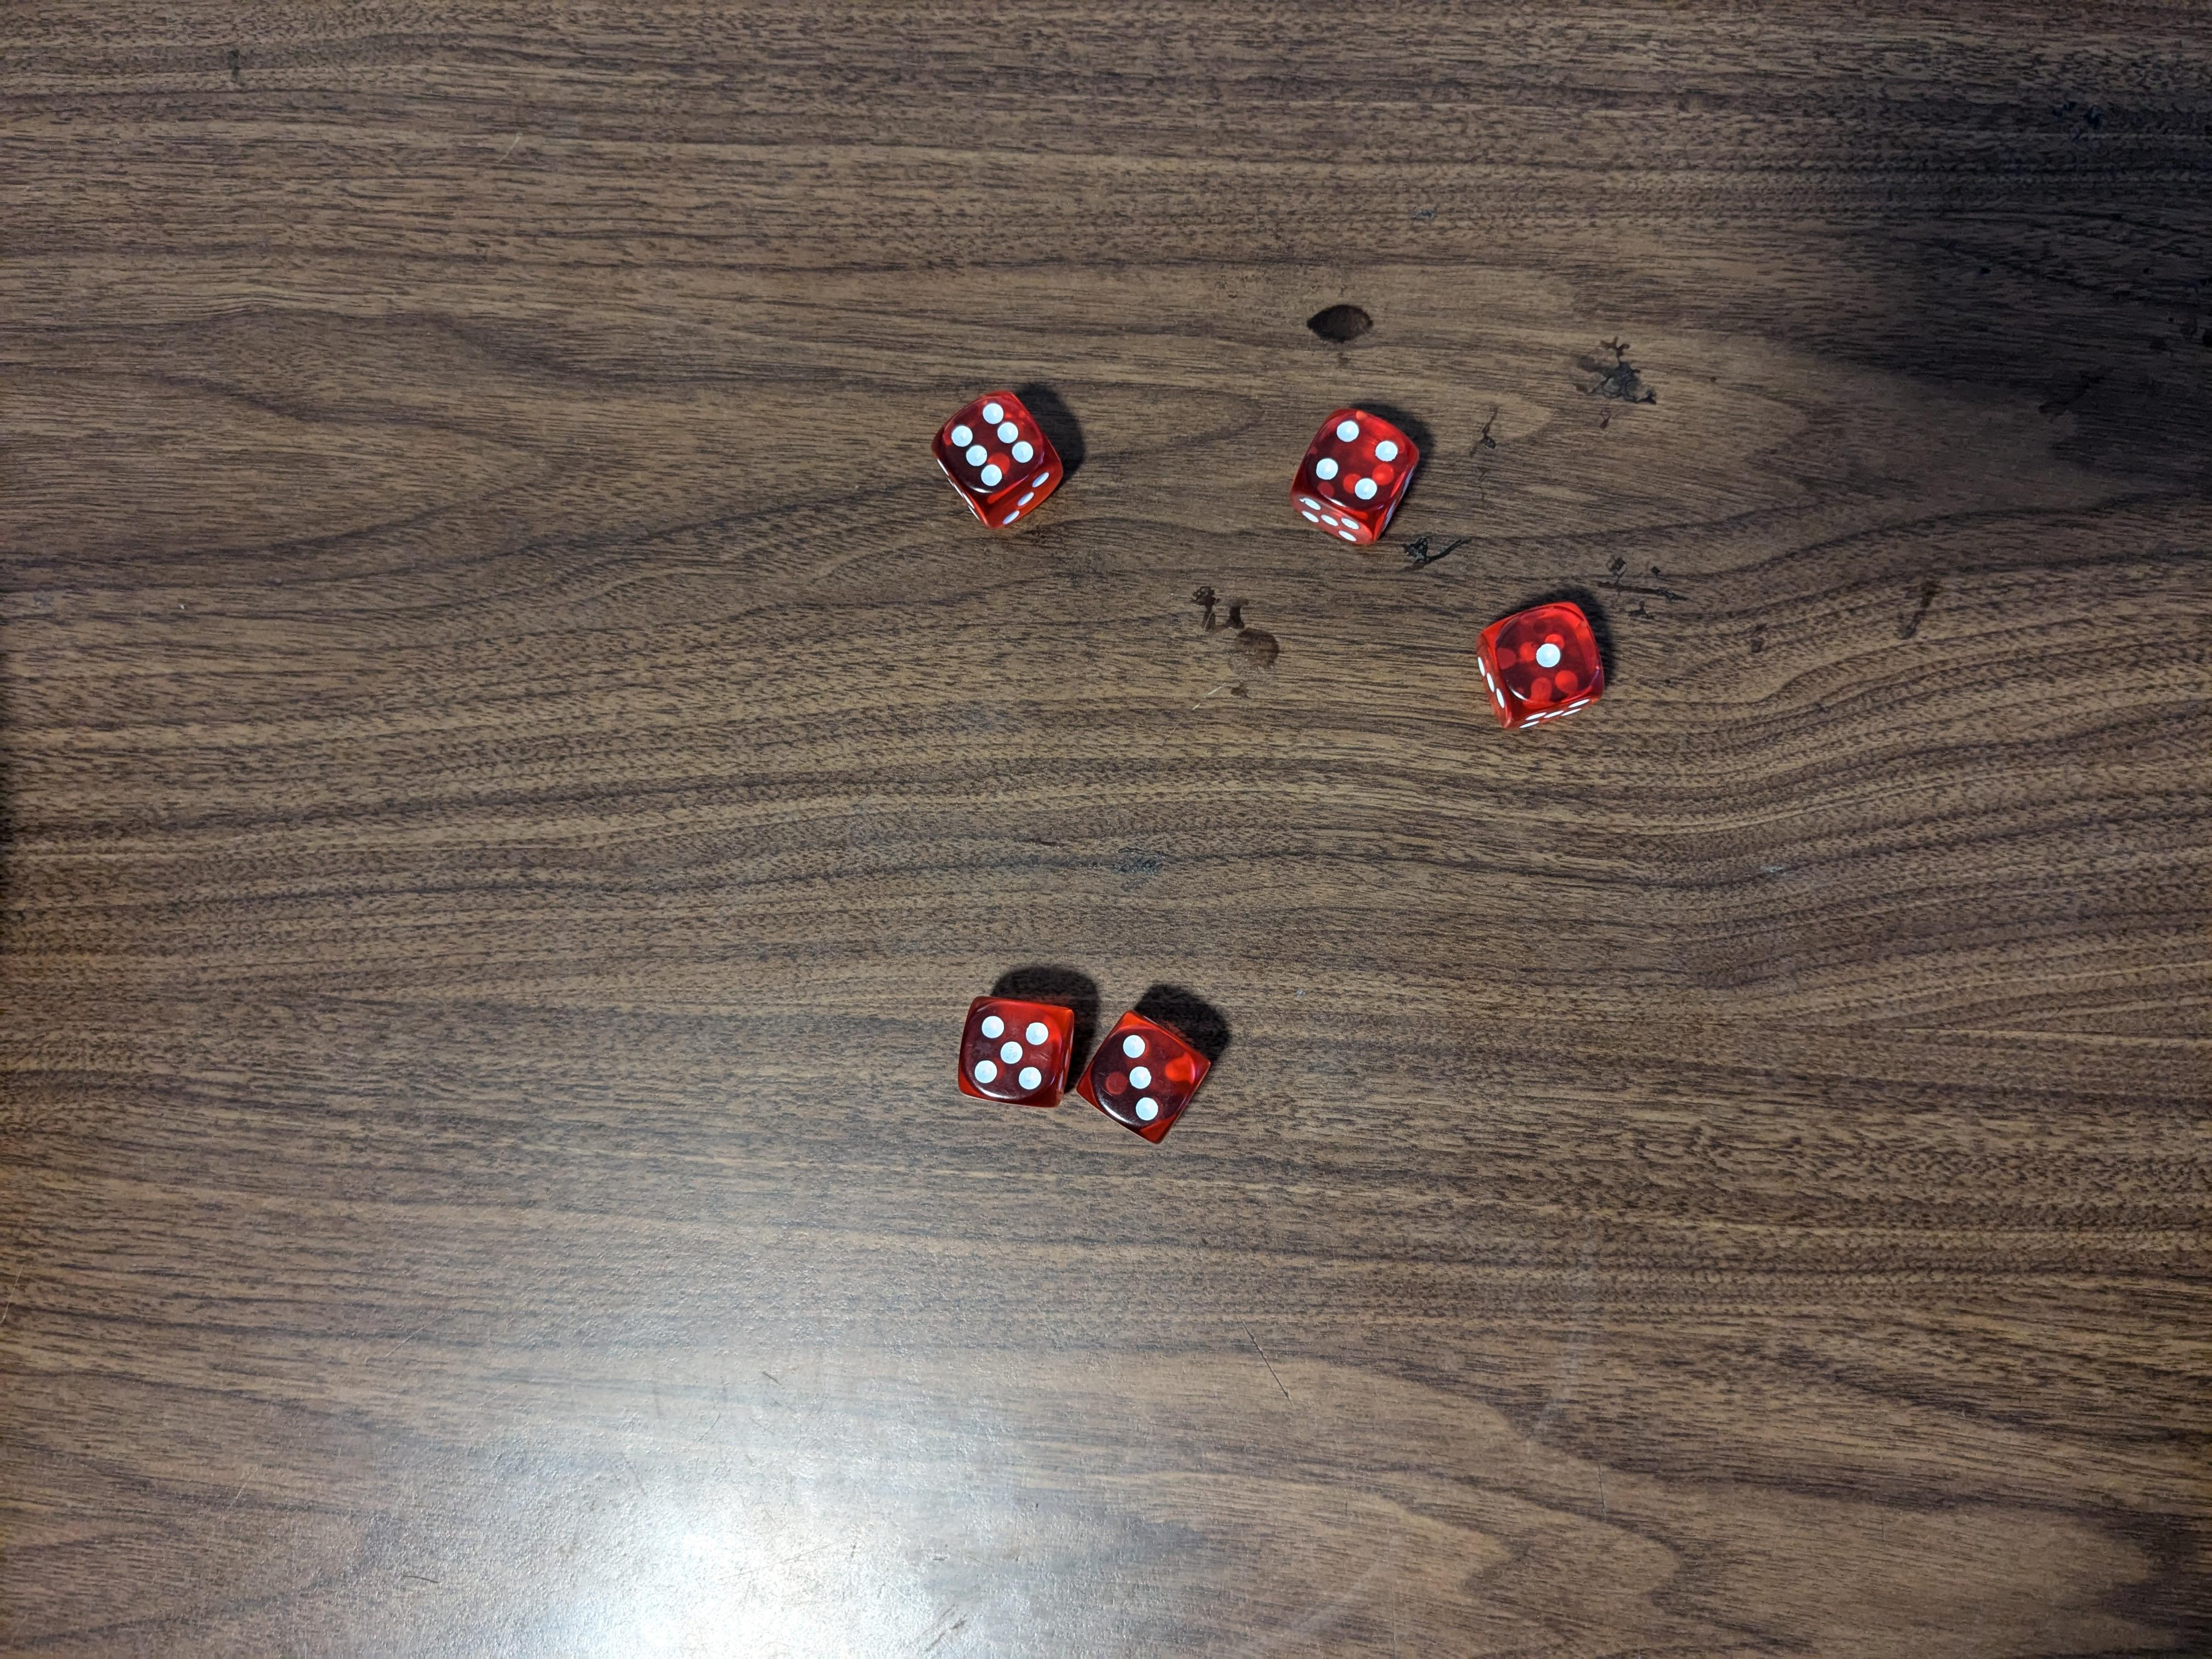five: (946, 990, 1080, 1105)
four: (1292, 406, 1425, 542)
one: (1474, 594, 1618, 734)
six: (932, 389, 1068, 532)
three: (1082, 1009, 1216, 1141)
